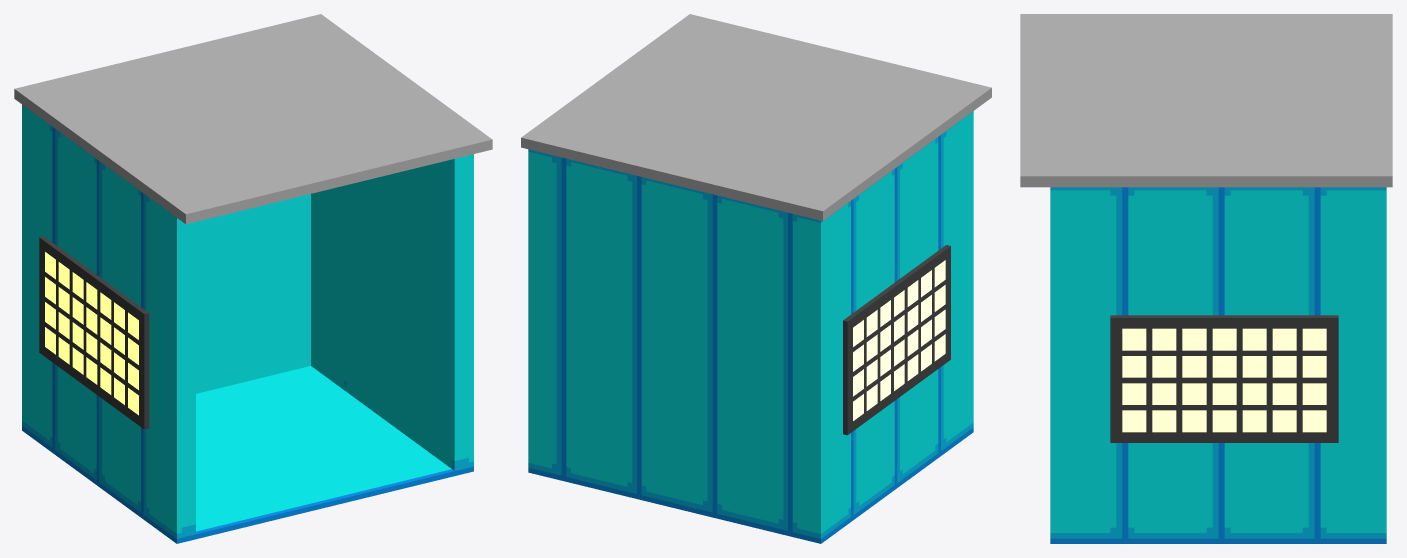
File: typeFourteen.glb
The picture shows the model from 3 angles, left to right: view 1: azimuth 30°, elevation 25°; view 2: azimuth 150°, elevation 25°; view 3: azimuth 270°, elevation 25°; orthographic projection. The views are drawn at different scales.
Visible parts, largest first — view 1: ObjObject; view 2: ObjObject; view 3: ObjObject.
Part boxes in pixels (x1=…): ObjObject: x1=14, y1=14, x2=492, y2=543; ObjObject: x1=521, y1=14, x2=991, y2=543; ObjObject: x1=1020, y1=14, x2=1392, y2=543.
Bounding box in the file's own units: 6.4 × 6.8 × 6.2.
Materials: 3 (1 with a texture image).
